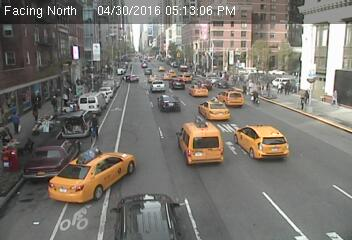neg: (123, 156, 170, 219), (296, 151, 340, 209), (26, 186, 57, 227), (213, 7, 243, 47), (262, 12, 292, 51), (67, 35, 95, 72), (193, 127, 217, 159), (187, 36, 208, 66), (89, 4, 109, 30), (176, 10, 195, 36), (243, 198, 261, 223), (163, 88, 179, 110), (169, 63, 184, 83), (137, 28, 148, 43), (122, 32, 133, 47), (139, 64, 147, 76)
pos: (5, 109, 27, 138), (300, 85, 317, 107), (295, 91, 311, 113), (273, 78, 289, 100), (45, 94, 61, 115), (329, 88, 344, 108), (28, 102, 42, 122), (31, 90, 45, 110), (58, 92, 70, 109)
